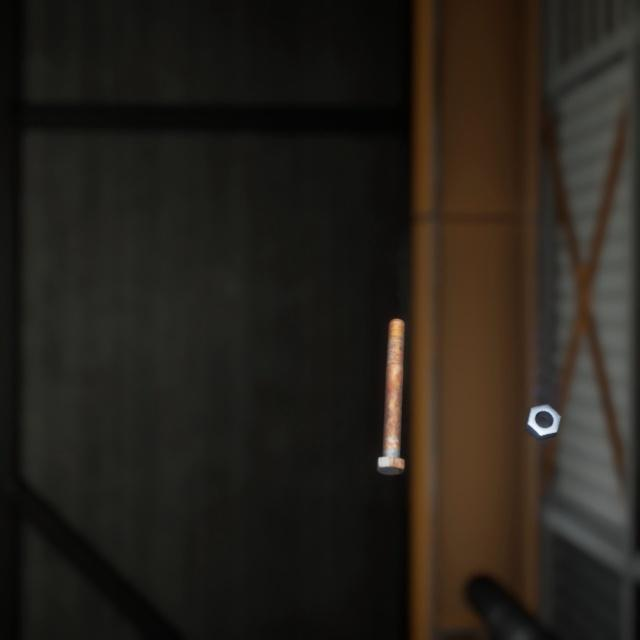bolt: (372, 296, 409, 460)
nut: (520, 379, 565, 425)
